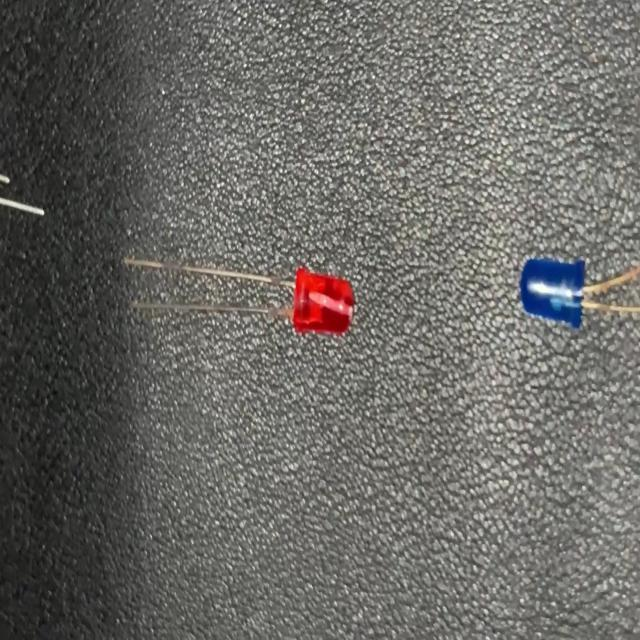LED: (123, 257, 355, 341), (517, 253, 640, 333)
